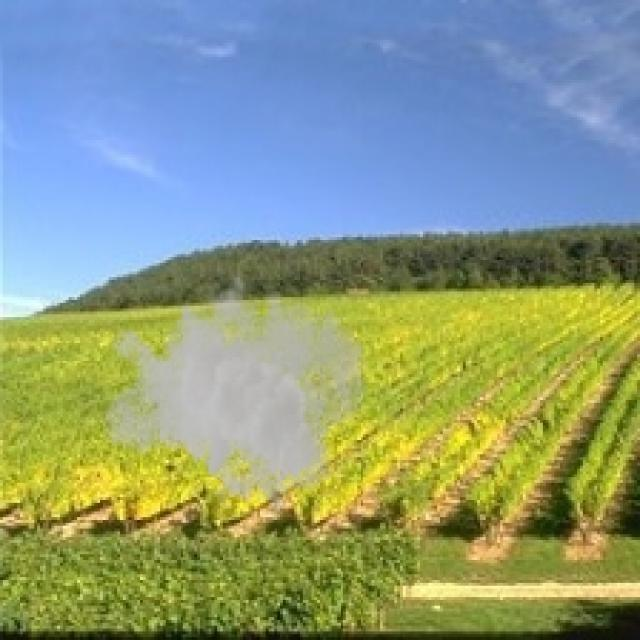smoke: (100, 260, 369, 511)
